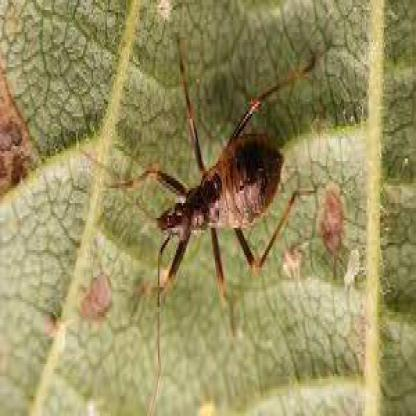uroleucon compositae: (128, 37, 315, 293)
